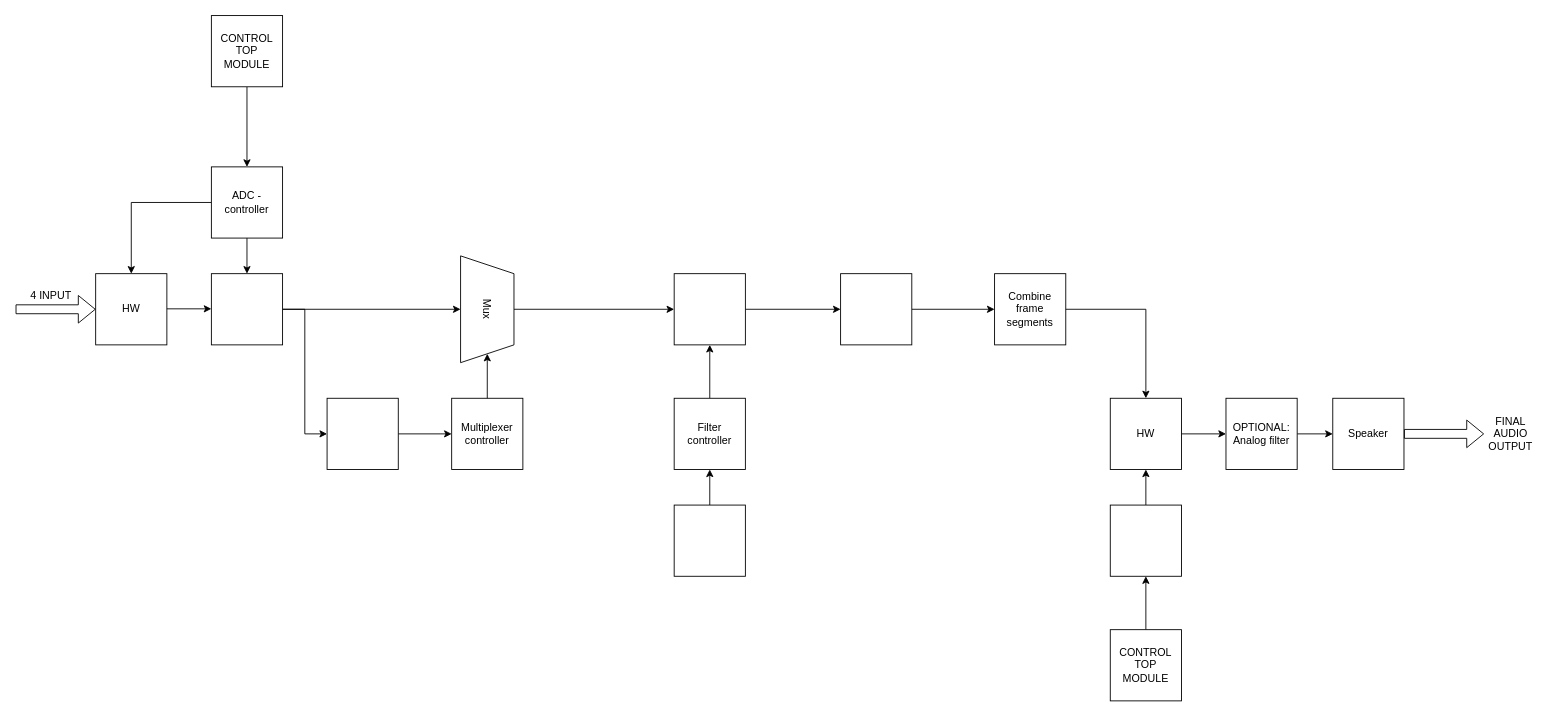
Image size: 1552x716. Some labels were removed from this diagram. Each missing label, with the centre of its shape:
Config filter: the point at 709,309
DAC controller: the point at 1145,540
FFT: the point at 362,433
OPTIONAL: Other filters: the point at 876,309
Split into segments: the point at 246,309
UART module: the point at 709,540
